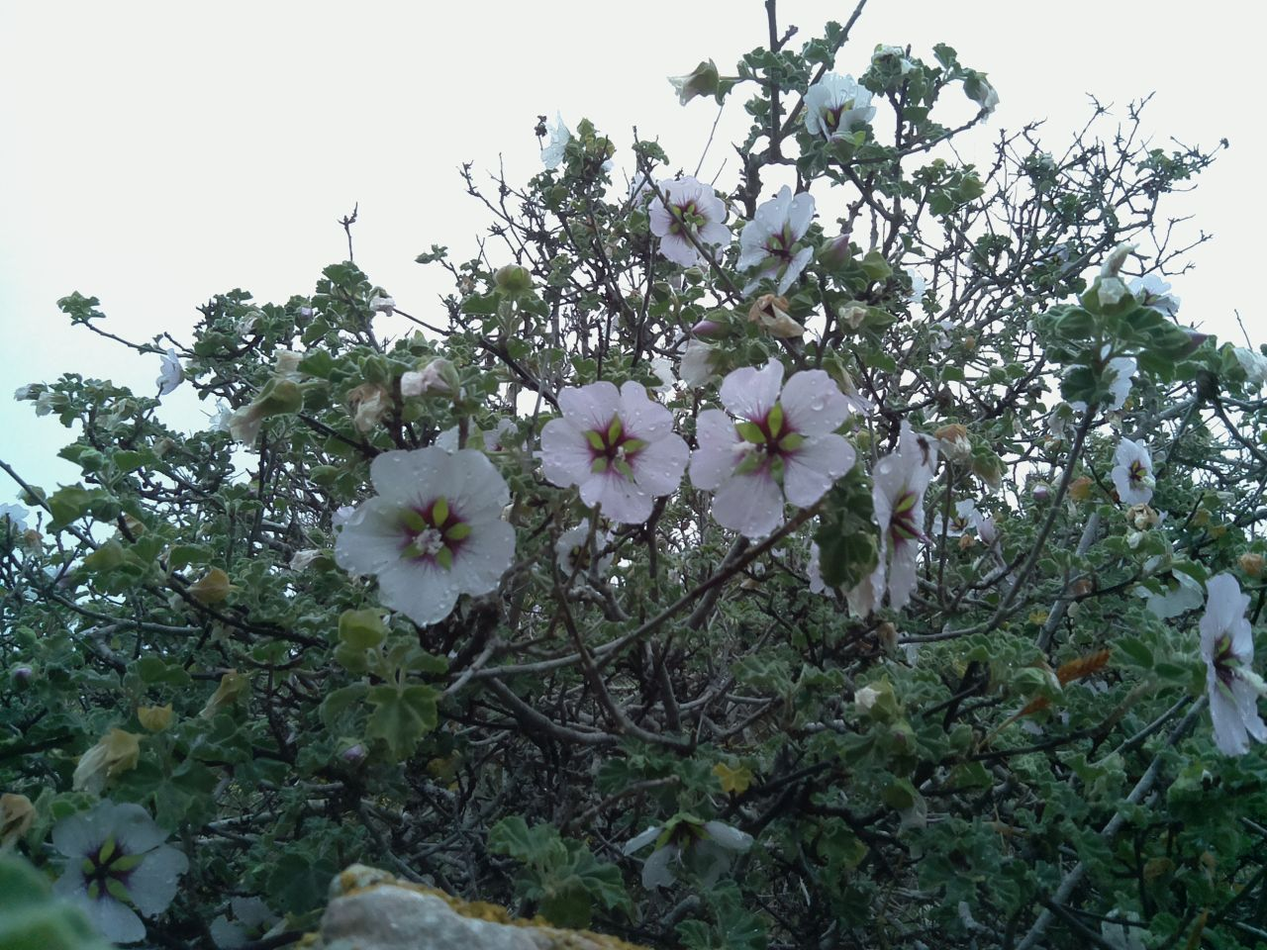Hoverfly: (902, 431, 950, 473)
